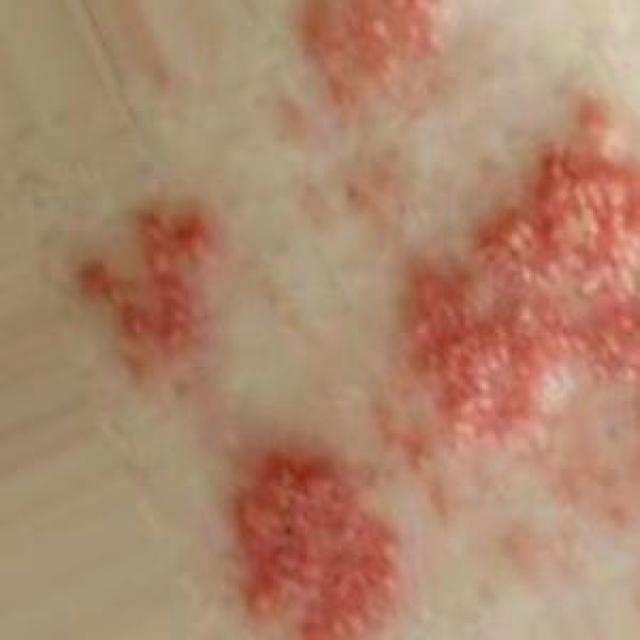Shingles: (410, 147, 640, 433), (226, 450, 400, 640), (79, 210, 209, 351), (302, 0, 443, 77)
